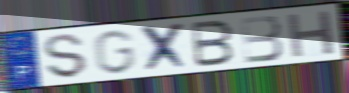B: (239, 14, 286, 65), (190, 19, 236, 69)
G: (91, 28, 137, 76)
H: (285, 9, 337, 60)
S: (41, 33, 89, 80)
X: (139, 21, 191, 75)
